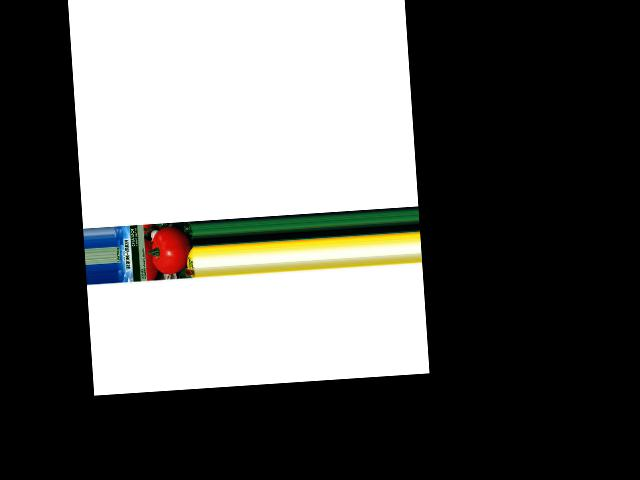tomato: (150, 225, 193, 275)
